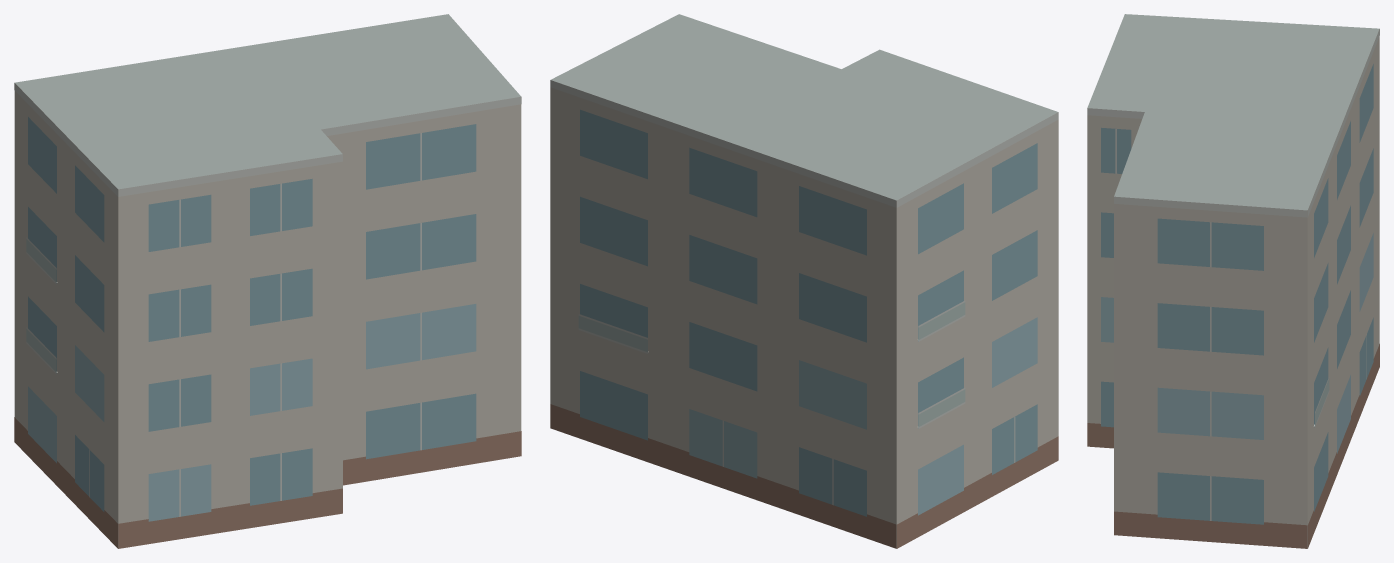
The model's file is survey-upis-32837847.glb.
The picture shows the model from 3 angles, left to right: view 1: azimuth 30°, elevation 25°; view 2: azimuth 150°, elevation 25°; view 3: azimuth 270°, elevation 25°; orthographic projection. The views are drawn at different scales.
Parts seen in each view (by area): view 1: survey-upis-32837847.tmp; view 2: survey-upis-32837847.tmp; view 3: survey-upis-32837847.tmp.
Part boxes in pixels (bbox=[...]): survey-upis-32837847.tmp: bbox=[14, 14, 521, 548]; survey-upis-32837847.tmp: bbox=[550, 14, 1058, 548]; survey-upis-32837847.tmp: bbox=[1087, 14, 1379, 548].
Size of the model in its own units: 14.42 by 11.58 by 9.08.
